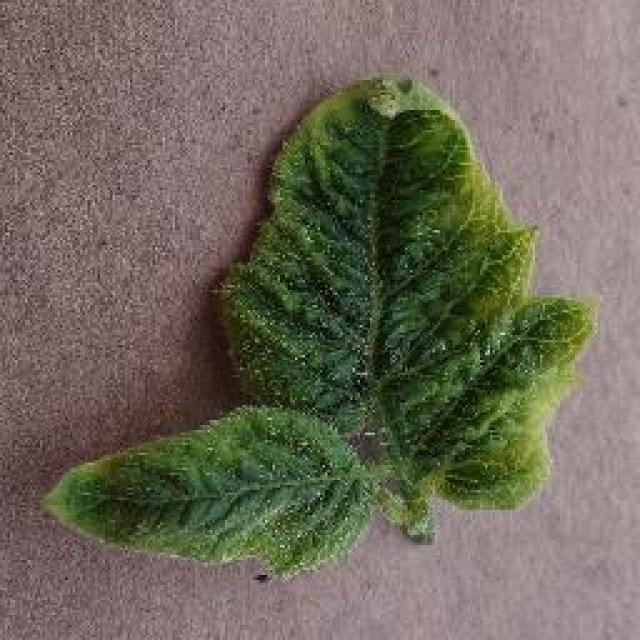Tomato yellow virus leaf: (216, 69, 596, 534), (42, 404, 372, 578)
